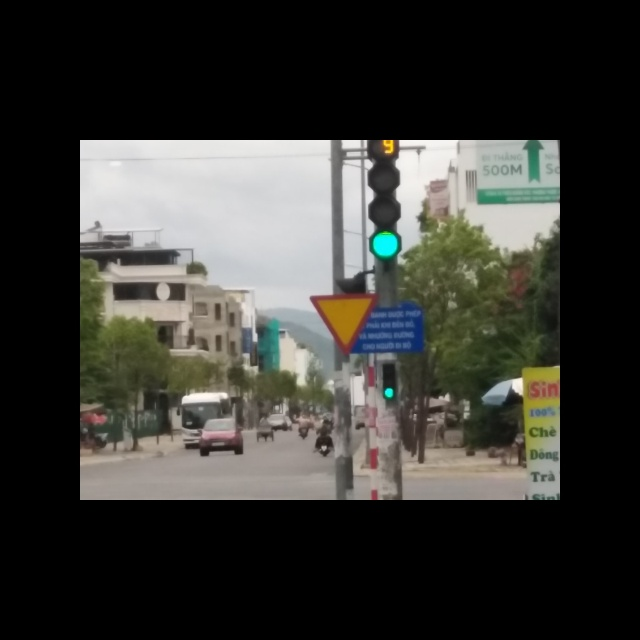Giao nhau với đường ưu tiên: (308, 294, 380, 358)
Đèn xanh: (370, 227, 402, 260)
